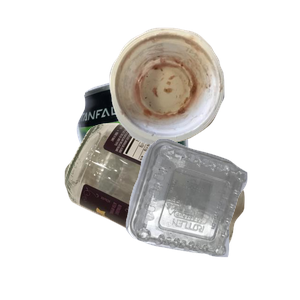glass: (62, 120, 300, 300)
metal: (74, 74, 257, 254)
plastic: (123, 136, 300, 300)
trash: (107, 25, 300, 162)
